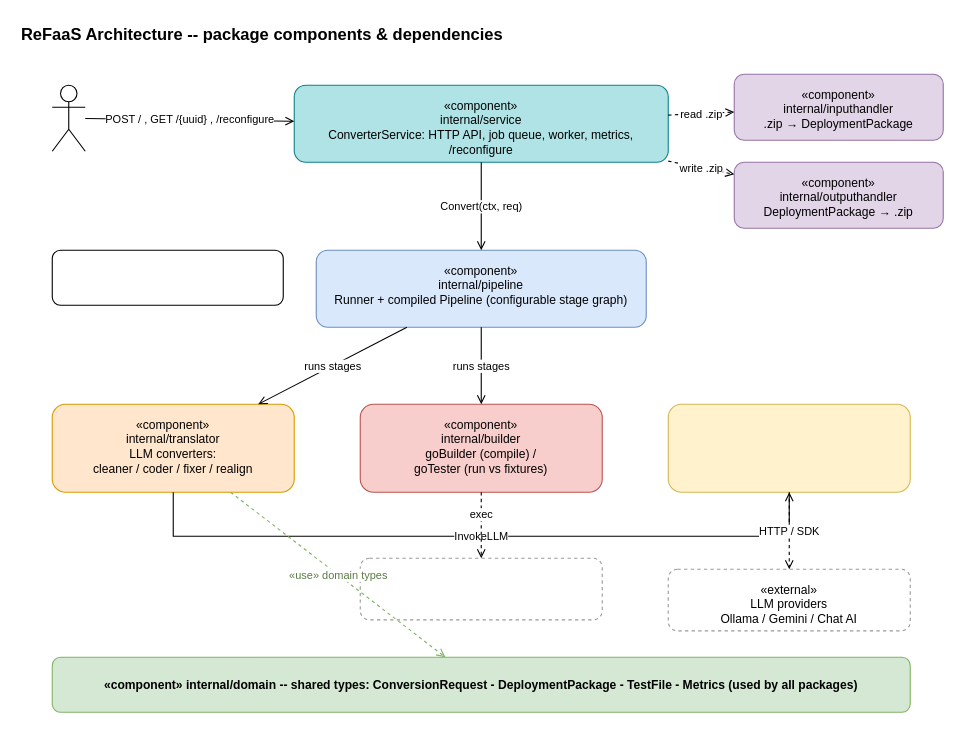
Some shapes in this 963 by 732 pixel diagram are drawn without their labels. The shapes that lost their labels are listed below. From the top down, each one's box as (x1, y1, x2, y2) in pixels, then its label:
(51, 84, 85, 151): Client (HTTP)
(51, 249, 283, 305): → solid = call / data dependency → dashed = «use» / external boundary
(667, 403, 910, 492): «component» internal/llmconnector Client: ollama / gemini / chatai
(359, 557, 602, 620): «external» Go toolchain (go build / go run)
